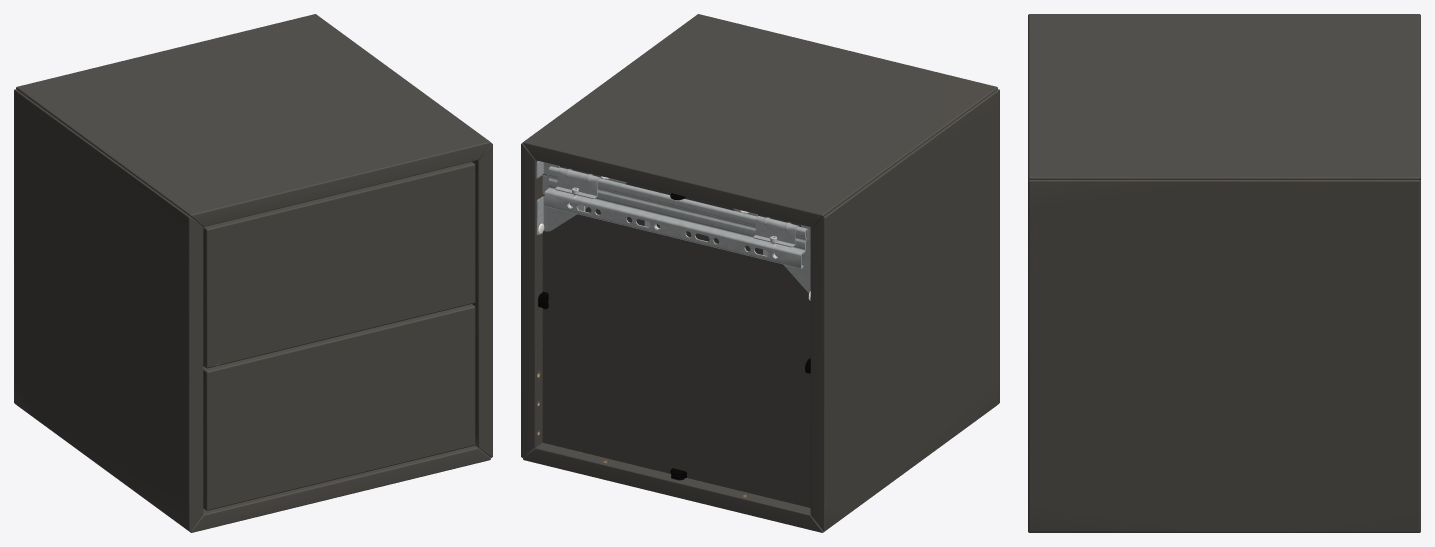
Rendered from 17 - EKET Wall cabinet with 2 drawers - dark grey 35x35x35 cm.glb.
3 views of the same model, side by side, from view 1: azimuth 30°, elevation 25°; view 2: azimuth 150°, elevation 25°; view 3: azimuth 270°, elevation 25° (orthographic). The views are drawn at different scales.
Bounding box in the file's own units: 0.35 × 0.35 × 0.35.
Materials: 1 (1 with a texture image).
